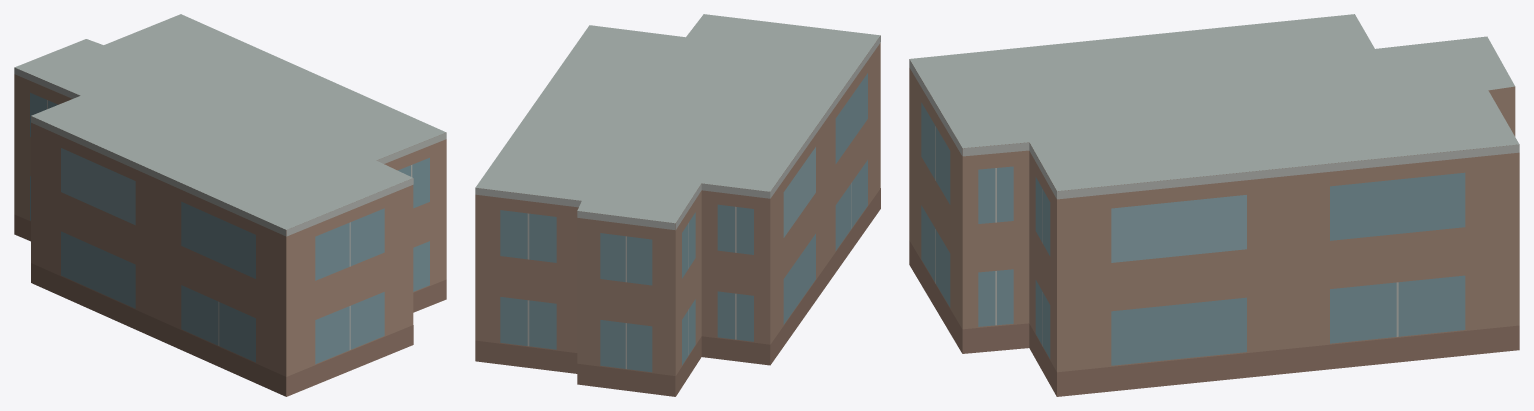
File: survey-upis-32716393.glb
3 renders of one model, left to right at view 1: azimuth 30°, elevation 25°; view 2: azimuth 150°, elevation 25°; view 3: azimuth 270°, elevation 25°, orthographic. The views are drawn at different scales.
Visible parts, largest first — view 1: survey-upis-32716393.tmp; view 2: survey-upis-32716393.tmp; view 3: survey-upis-32716393.tmp.
Part boxes in pixels (x1,y1,x2,y2): survey-upis-32716393.tmp: [14, 14, 446, 396]; survey-upis-32716393.tmp: [475, 14, 880, 396]; survey-upis-32716393.tmp: [909, 14, 1519, 396].
Size of the model in its own units: 11.28 by 6.1 by 16.41.
